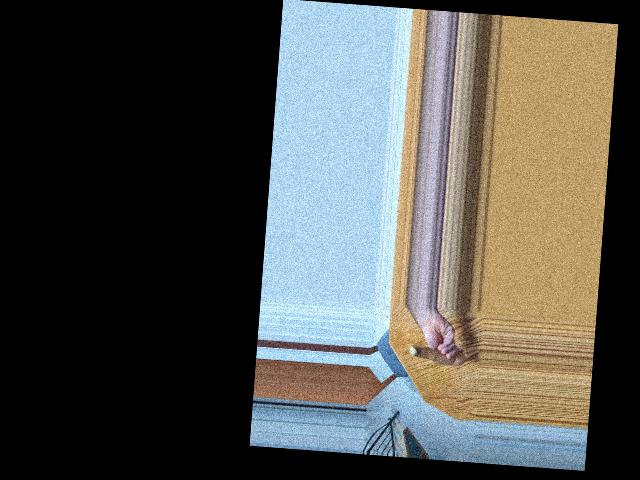sweet_potato: (410, 340, 466, 368)
